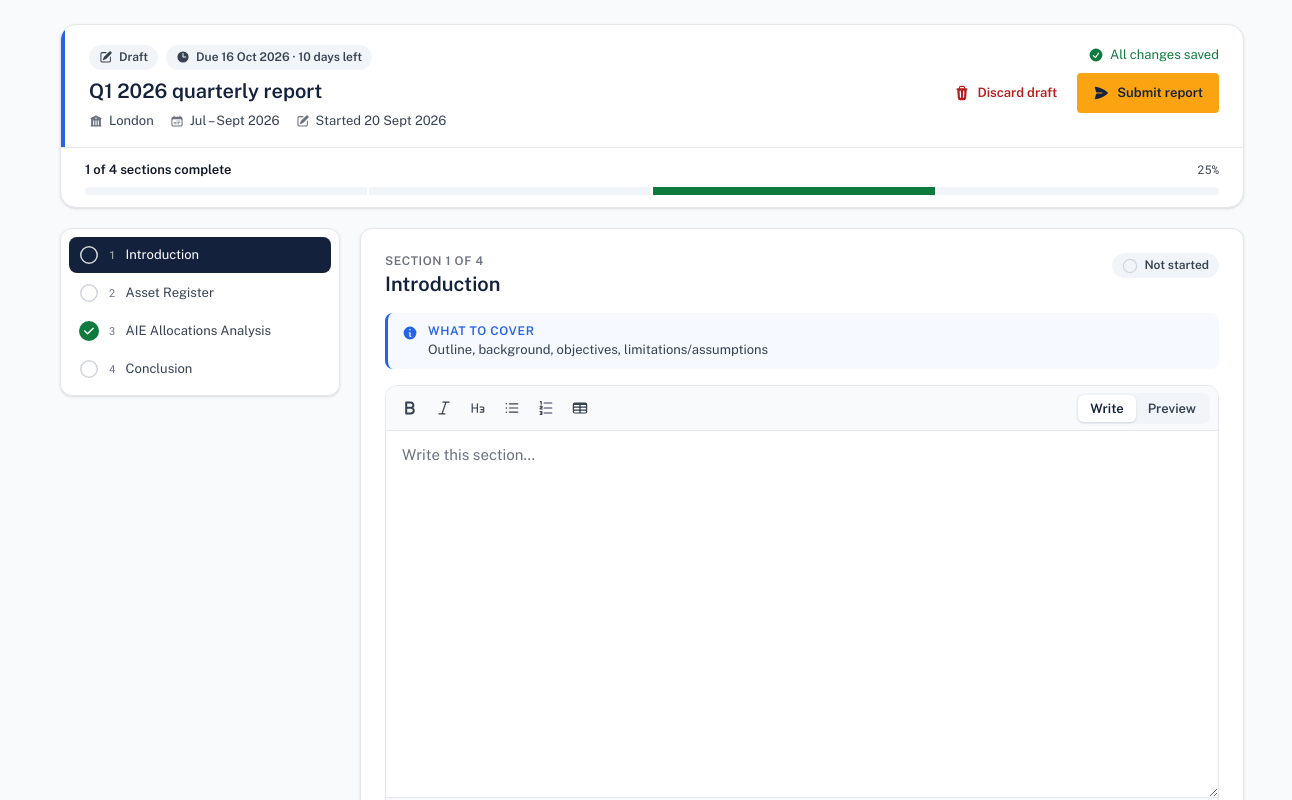
ReportFormPage — the attache editor › TC-FR-RPT-005 / TC-FR-RPT-006-C: leaving a section saves it at once, and its text is there on return
The image size is (1292, 800).
In the text box labelled "Introduction": (802, 614) [386,431,1218,797], type "Typed just now"
(page scrolled)
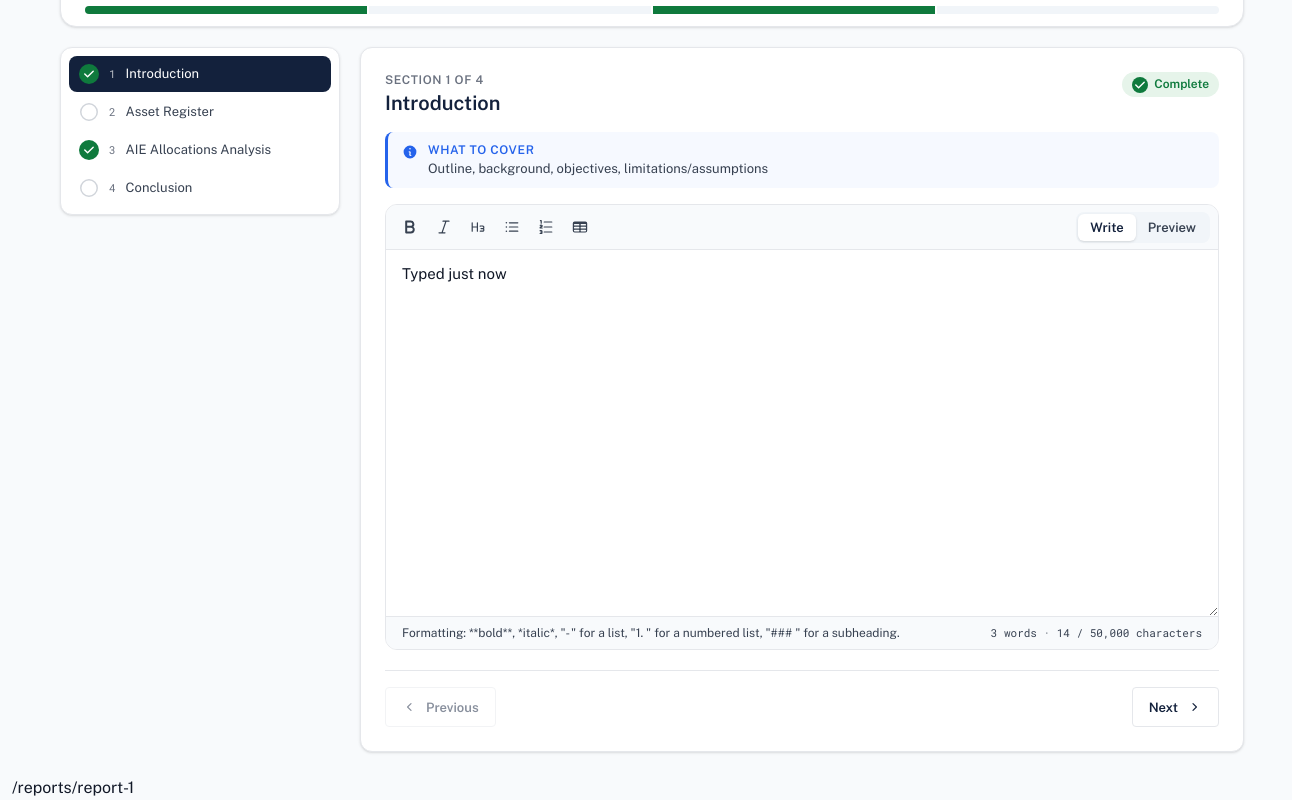
Click the button "Next": (1175, 707) [1132,687,1219,727]
(page scrolled)
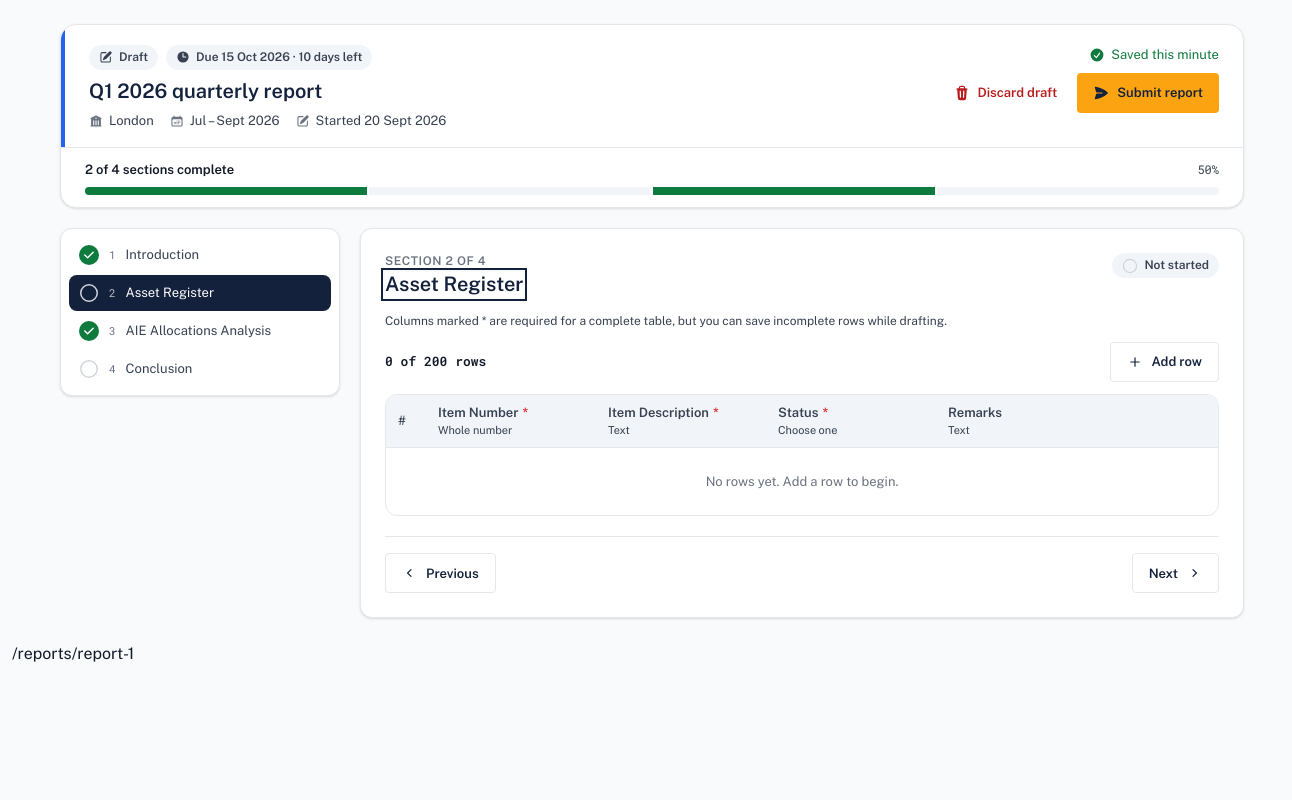
Result: the heading "Asset Register" is shown at [385,272,523,297]
Click the button "Previous": (440, 573) [385,553,496,593]
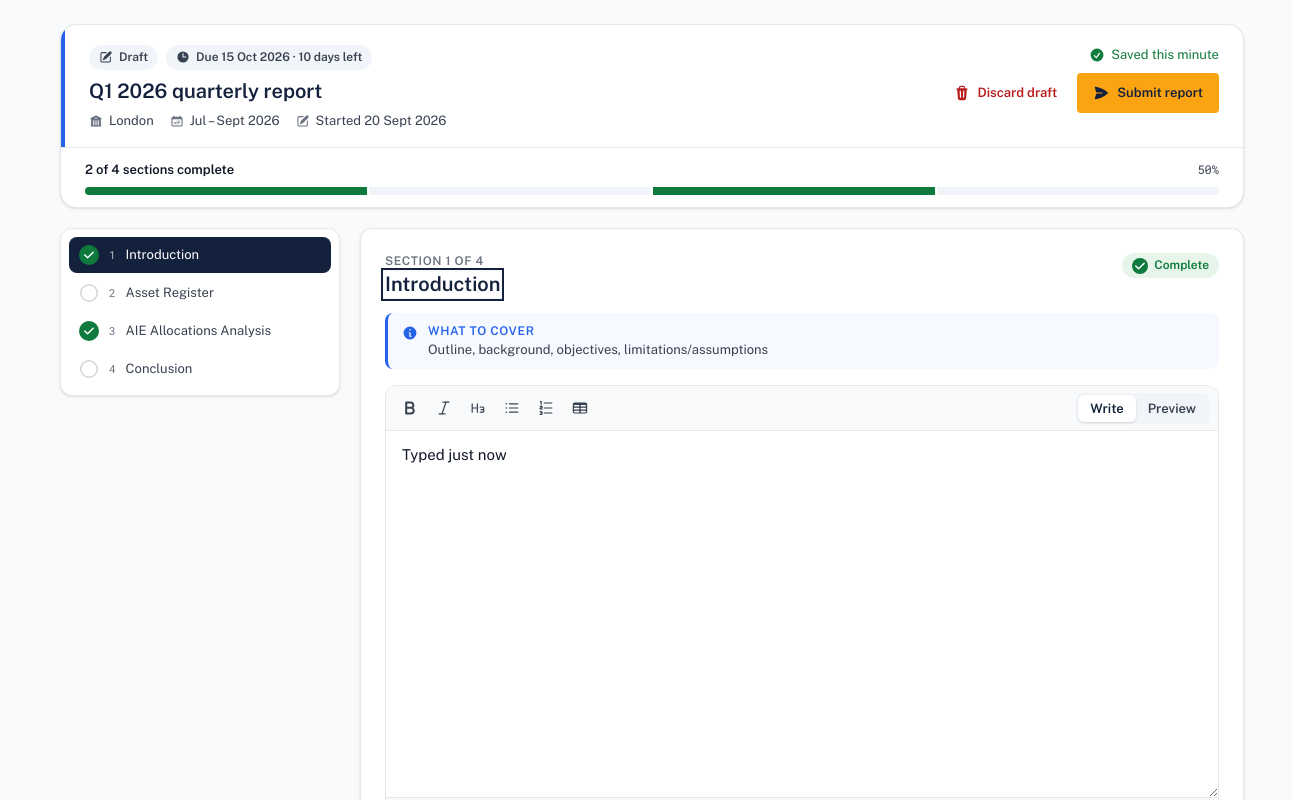
Result: the text box labelled "Introduction" holds "Typed just now" at [386,431,1218,797]
